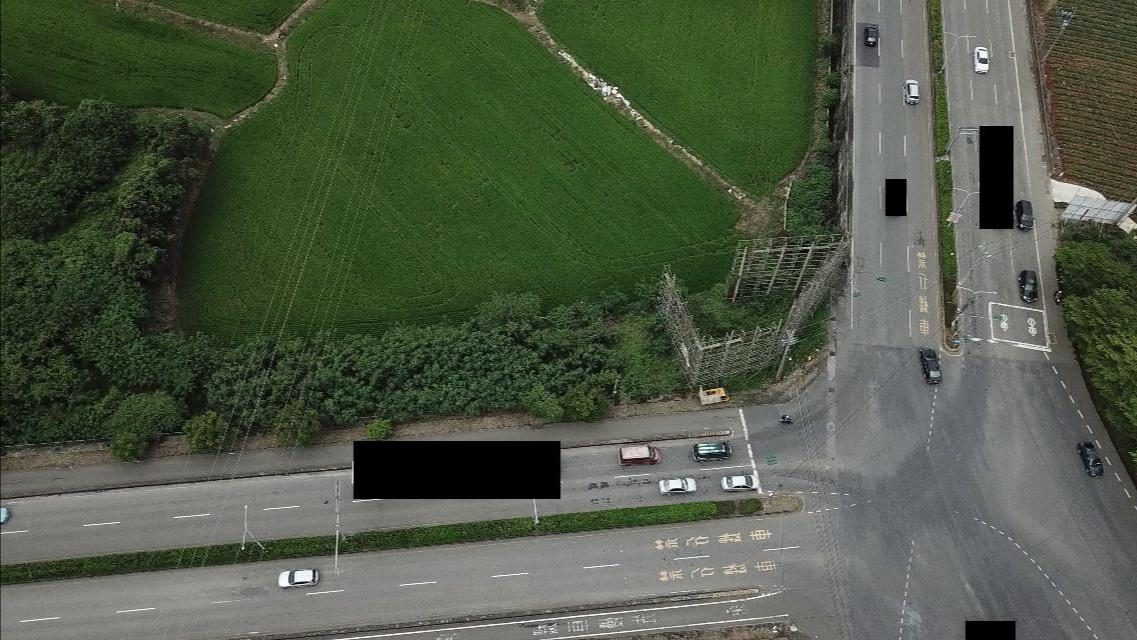vehicle: (614, 443, 660, 468), (1076, 441, 1104, 478), (917, 343, 940, 387), (691, 442, 732, 462), (658, 474, 700, 493), (1013, 196, 1035, 230), (721, 473, 760, 492), (277, 570, 318, 587), (971, 41, 992, 74), (1019, 268, 1039, 302), (698, 384, 731, 403), (899, 79, 921, 104), (862, 24, 878, 49)
